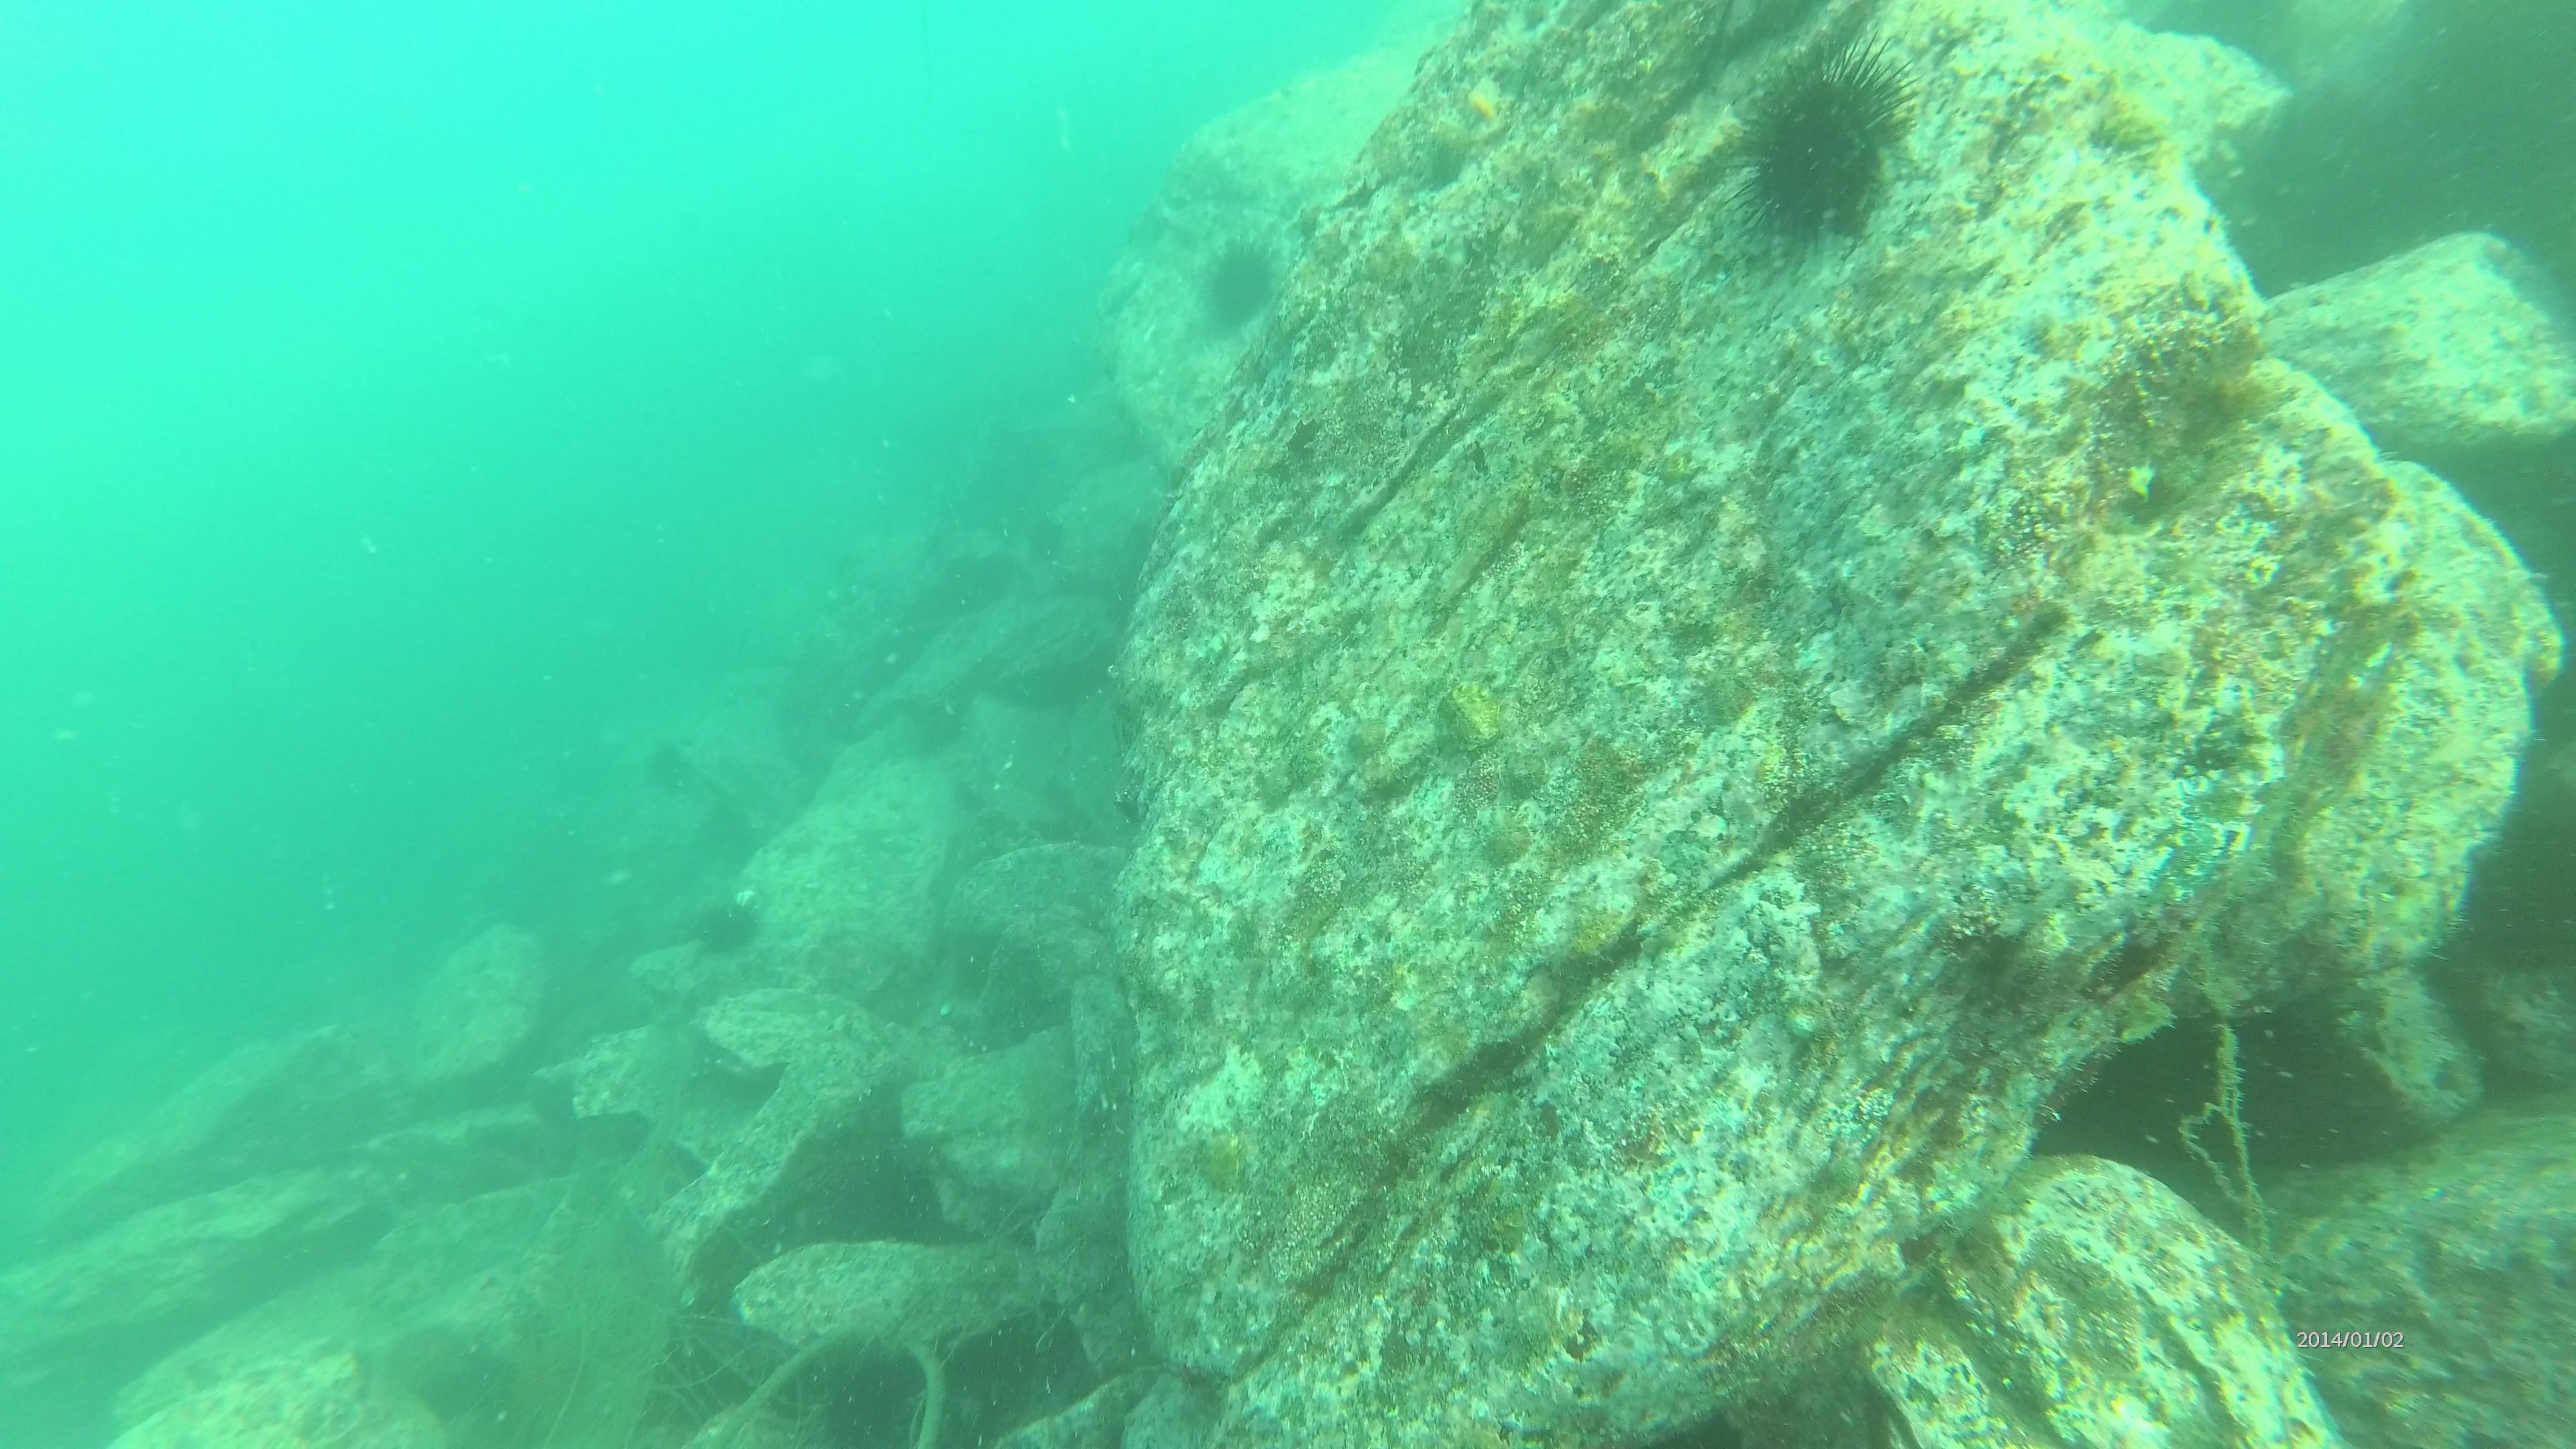echinus: (1736, 37, 1925, 255), (1203, 235, 1274, 329), (690, 890, 771, 959)
